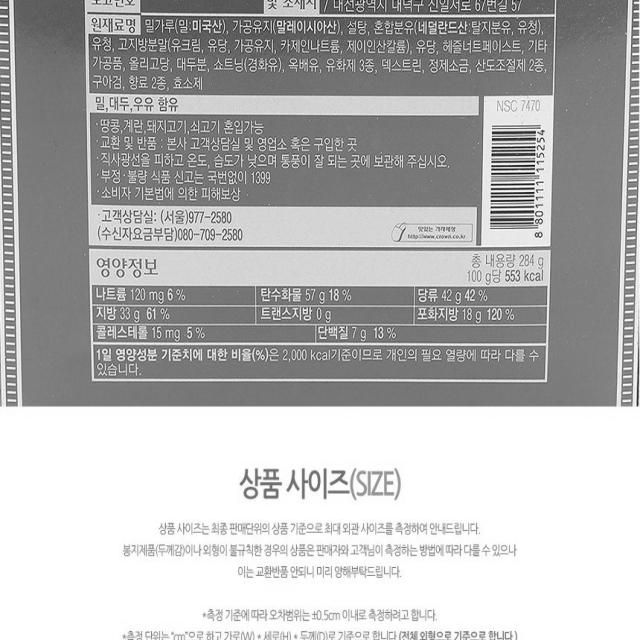Nutrition Label: (80, 240, 560, 391)
